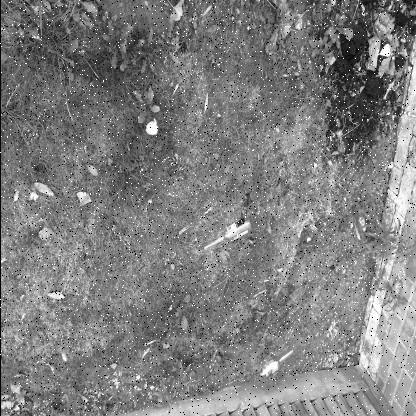glass: (203, 215, 251, 251)
